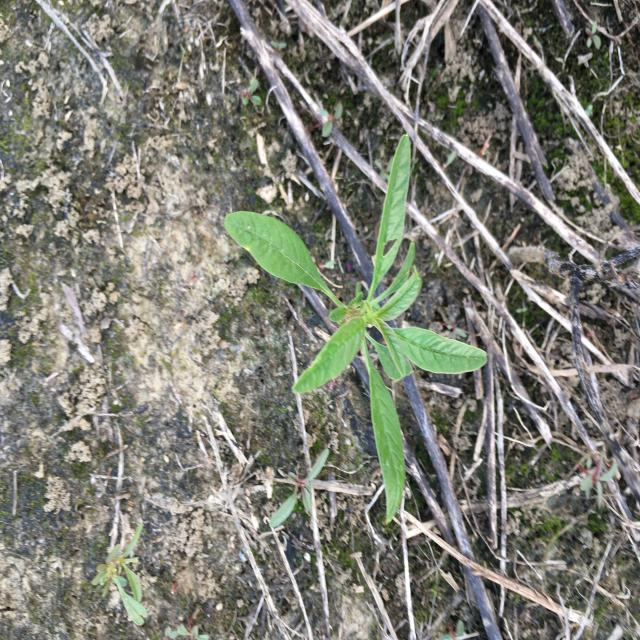Waterhemp: (223, 132, 489, 529)
